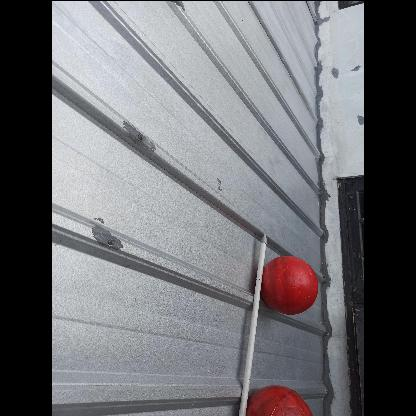red_ball: (260, 253, 320, 313)
